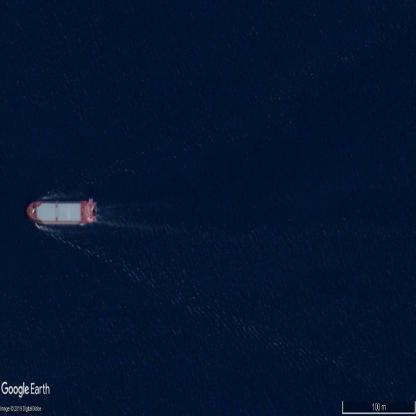ship: (26, 200, 97, 225)
